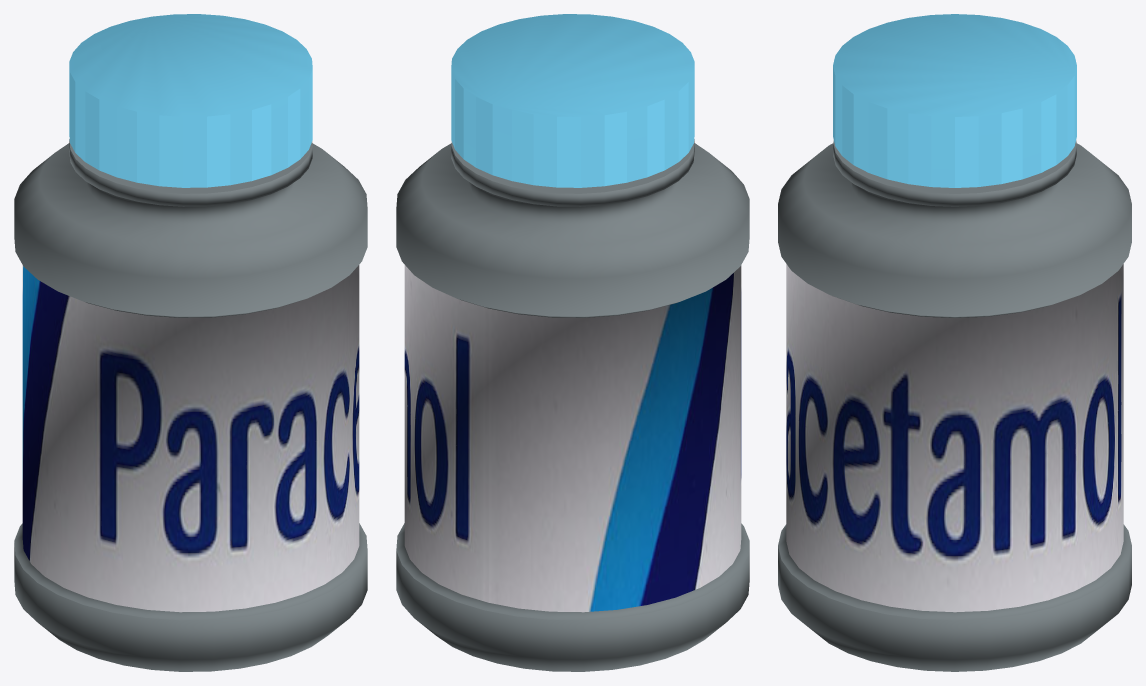
Rendered from Med_Bottle_L.fbx.
The picture shows the model from 3 angles, left to right: view 1: azimuth 30°, elevation 25°; view 2: azimuth 150°, elevation 25°; view 3: azimuth 270°, elevation 25°; orthographic projection.
Parts seen in each view (by area): view 1: Cylinder; view 2: Cylinder; view 3: Cylinder.
Part boxes in pixels (x1,y1,x2,y2): Cylinder: (14, 14, 367, 671); Cylinder: (396, 14, 749, 671); Cylinder: (778, 14, 1131, 671).
Bounding box in the file's own units: 200 × 338 × 200.
